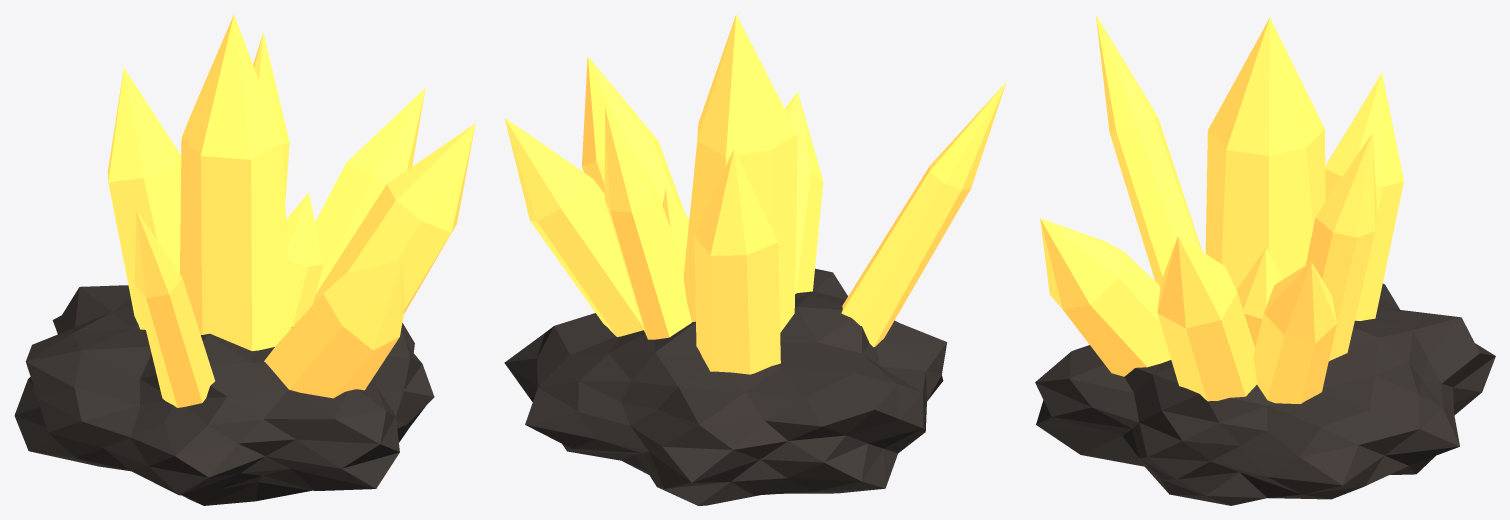
File: wb_crystal_forearm.glb
3 views of the same model, side by side, from view 1: azimuth 30°, elevation 25°; view 2: azimuth 150°, elevation 25°; view 3: azimuth 270°, elevation 25° (orthographic).
Visible parts, largest first — view 1: wb_crystal_forearm; view 2: wb_crystal_forearm; view 3: wb_crystal_forearm.
Boxes of the visible parts, bbox=[...] form: wb_crystal_forearm: bbox=[14, 14, 475, 505]; wb_crystal_forearm: bbox=[504, 14, 1006, 505]; wb_crystal_forearm: bbox=[1035, 14, 1495, 505].
Size of the model in its own units: 0.9823 by 1.05 by 0.9821.
